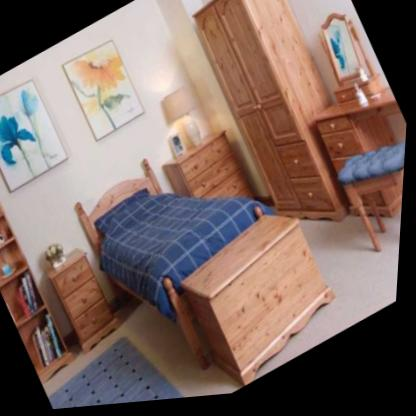Bed: (64, 114, 321, 405)
Closet: (173, 0, 396, 269)
Table: (332, 137, 408, 284)
